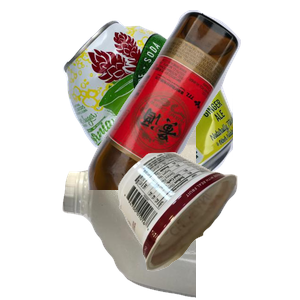glass: (85, 10, 300, 190)
metal: (60, 18, 300, 198)
plastic: (60, 120, 300, 300)
trash: (116, 149, 300, 300)
